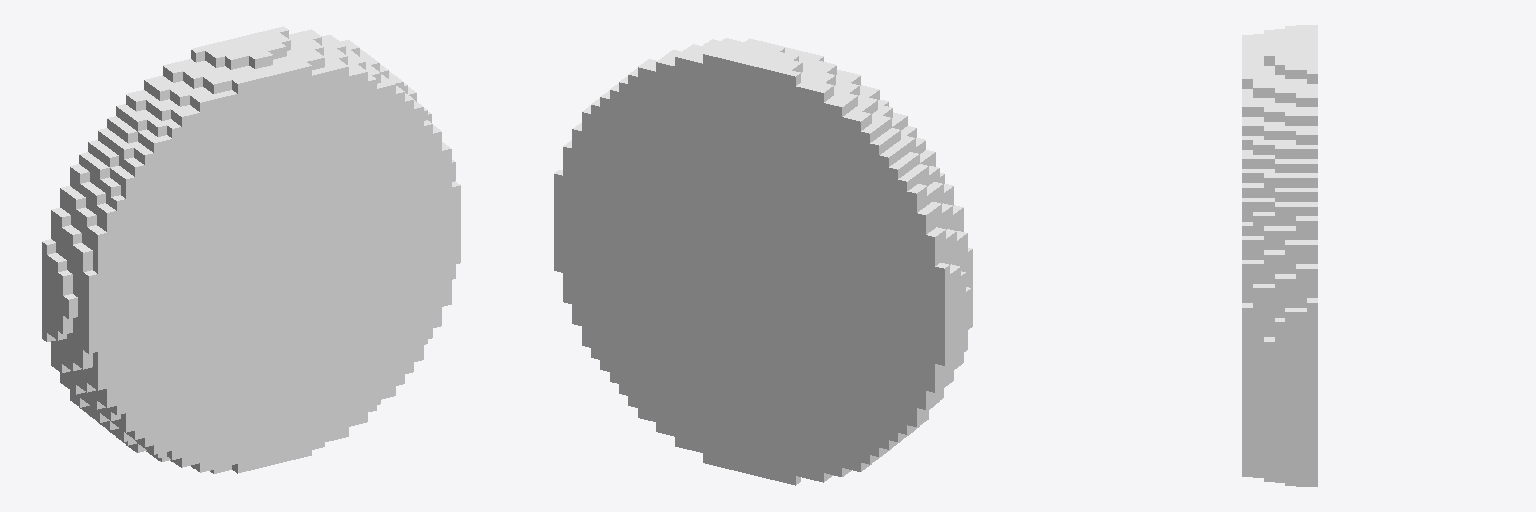
File: Window.obj
The picture shows the model from 3 angles: view 1: azimuth 30°, elevation 25°; view 2: azimuth 150°, elevation 25°; view 3: azimuth 270°, elevation 25°; orthographic projection.
Visible parts, largest first — view 1: object 1; view 2: object 1; view 3: object 1.
Part boxes in pixels (x1,y1,x2,y2): object 1: (42, 26, 460, 473); object 1: (554, 38, 972, 485); object 1: (1242, 25, 1317, 486).
Size of the model in its own units: 4.2 by 4.2 by 0.7.